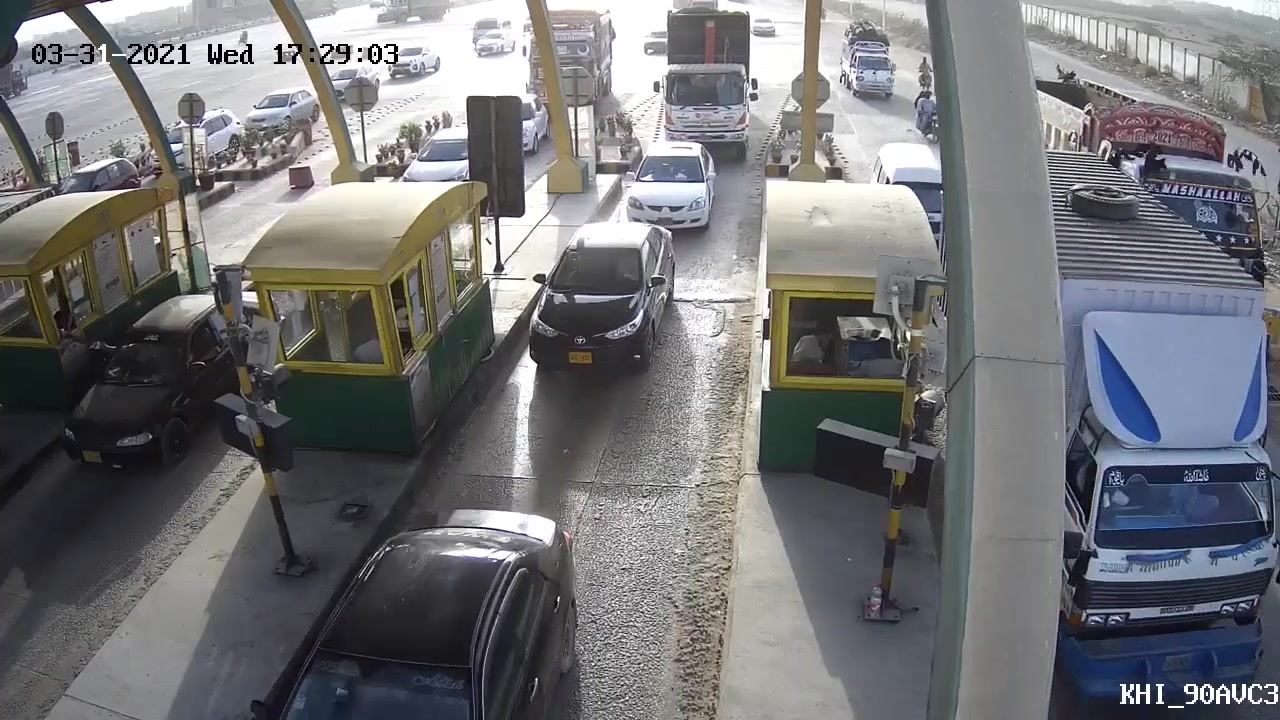F1: (505, 221, 679, 373)
